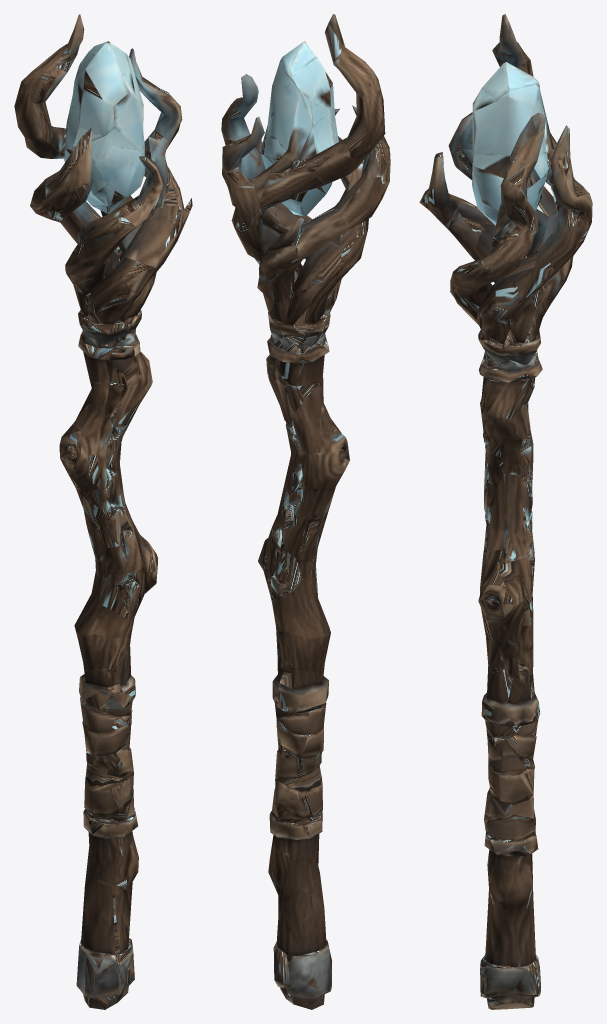
The model's file is wizard_staff.glb.
The picture shows the model from 3 angles, left to right: view 1: azimuth 30°, elevation 25°; view 2: azimuth 150°, elevation 25°; view 3: azimuth 270°, elevation 25°; orthographic projection.
Parts seen in each view (by area): view 1: Mesh_0; view 2: Mesh_0; view 3: Mesh_0.
Boxes of the visible parts, x1,y1,x2,y2 form: Mesh_0: (14, 14, 192, 1009); Mesh_0: (221, 14, 390, 1009); Mesh_0: (419, 14, 592, 1009).
Bounding box in the file's own units: 0.3016 × 1.75 × 0.2782.
Materials: 1 (1 with a texture image).
